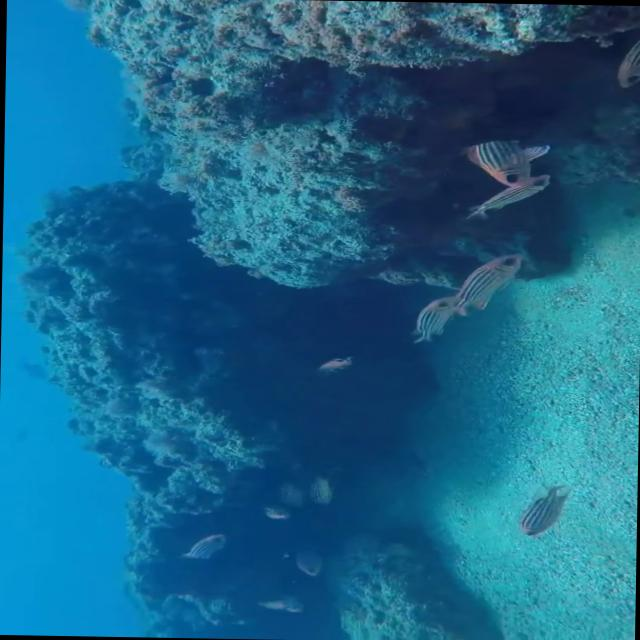Asker Baligi: (408, 251, 524, 346), (458, 138, 551, 222), (515, 483, 570, 539)
